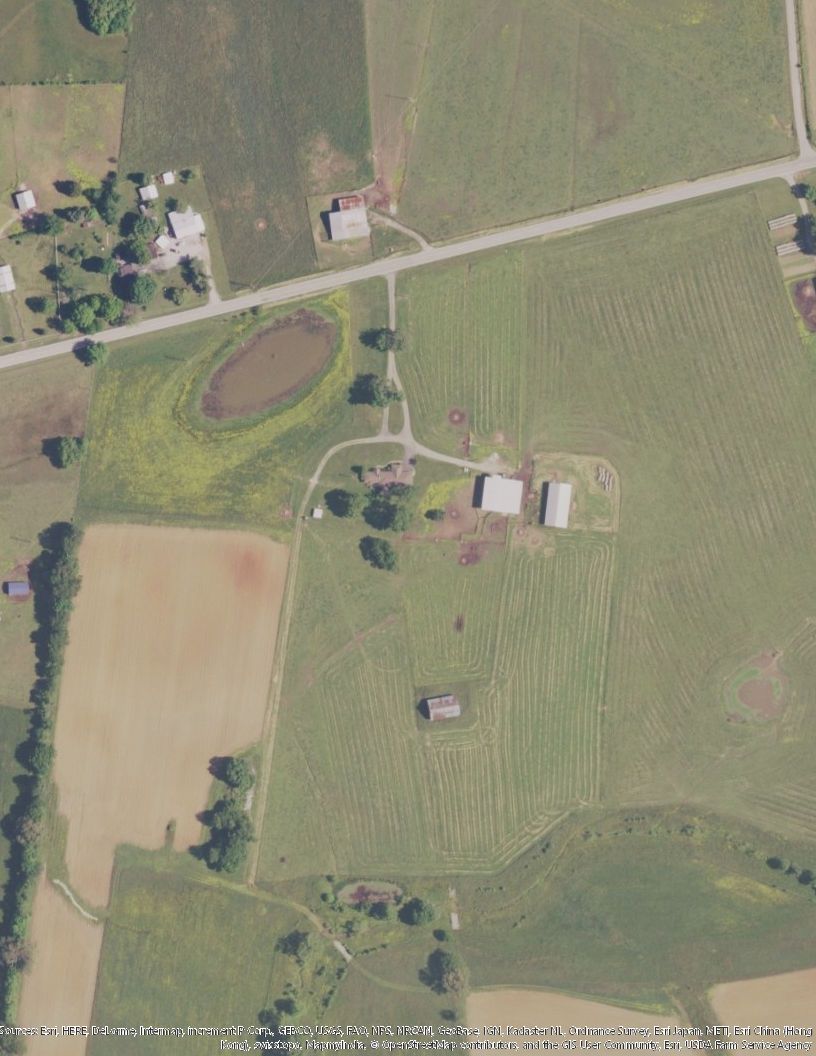cafo: (539, 478, 576, 531)
